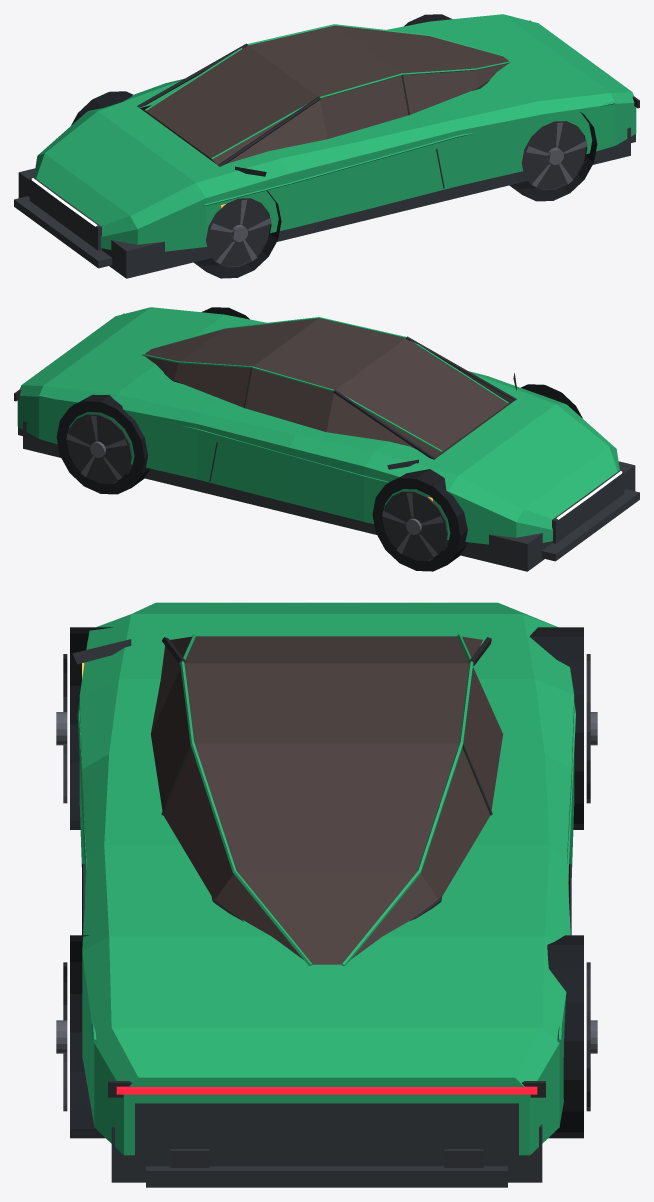
Rendered from roadster_07_green.glb.
3 renders of one model, top to bottom at view 1: azimuth 30°, elevation 25°; view 2: azimuth 150°, elevation 25°; view 3: azimuth 270°, elevation 25°, orthographic. The views are drawn at different scales.
Parts seen in each view (by area): view 1: Web mesh - Ano White satin.007, Smoked panoramic canopy, Web mesh - Graphite lower aero.007, Web mesh - Hub center.007, Web mesh - Tire rubber.007, Web mesh - Wheel dark alloy.007, Web mesh - Dark window trim.007; view 2: Web mesh - Ano White satin.007, Smoked panoramic canopy, Web mesh - Graphite lower aero.007, Web mesh - Tire rubber.007, Web mesh - Hub center.007, Web mesh - Wheel dark alloy.007, Web mesh - Dark window trim.007; view 3: Web mesh - Ano White satin.007, Smoked panoramic canopy, Web mesh - Graphite lower aero.007, Web mesh - Tire rubber.007, Web mesh - Hub center.007, Web mesh - Rear light red.007, Web mesh - Dark window trim.007, Web mesh - Wheel dark alloy.007.
Part boxes in pixels (<box>): Web mesh - Ano White satin.007: <box>34,14,636,251</box>; Smoked panoramic canopy: <box>140,25,508,164</box>; Web mesh - Graphite lower aero.007: <box>14,127,635,278</box>; Web mesh - Hub center.007: <box>206,121,587,267</box>; Web mesh - Tire rubber.007: <box>71,14,597,278</box>; Web mesh - Wheel dark alloy.007: <box>210,122,587,264</box>; Web mesh - Dark window trim.007: <box>137,20,639,166</box>; Web mesh - Ano White satin.007: <box>17,307,619,544</box>; Smoked panoramic canopy: <box>145,318,514,457</box>; Web mesh - Graphite lower aero.007: <box>18,373,639,571</box>; Web mesh - Tire rubber.007: <box>56,307,582,571</box>; Web mesh - Hub center.007: <box>66,395,556,560</box>; Web mesh - Wheel dark alloy.007: <box>66,395,544,557</box>; Web mesh - Dark window trim.007: <box>14,313,516,459</box>; Web mesh - Ano White satin.007: <box>77,602,575,1155</box>; Smoked panoramic canopy: <box>150,636,503,964</box>; Web mesh - Graphite lower aero.007: <box>72,639,571,1187</box>; Web mesh - Tire rubber.007: <box>70,627,583,1138</box>; Web mesh - Hub center.007: <box>63,654,590,1167</box>; Web mesh - Rear light red.007: <box>116,1086,537,1094</box>; Web mesh - Dark window trim.007: <box>108,637,545,1097</box>; Web mesh - Wheel dark alloy.007: <box>56,712,597,1053</box>.
Bounding box in the file's own units: 5.05 × 1.21 × 2.21.
